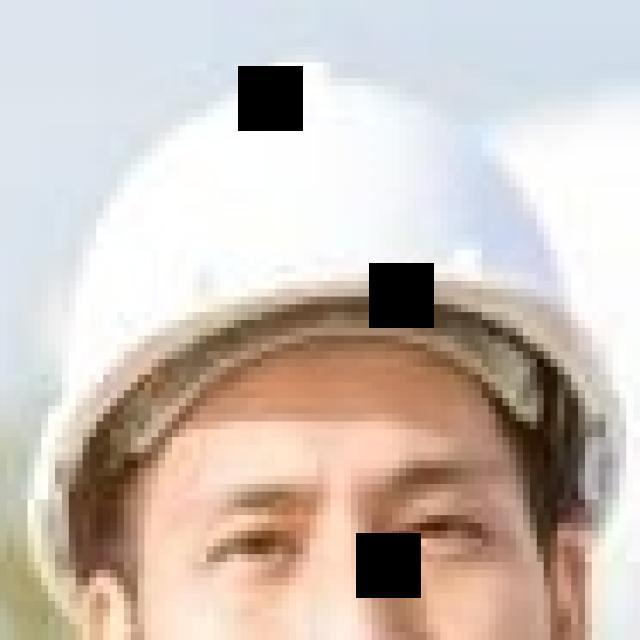white helmet: (8, 70, 640, 588)
